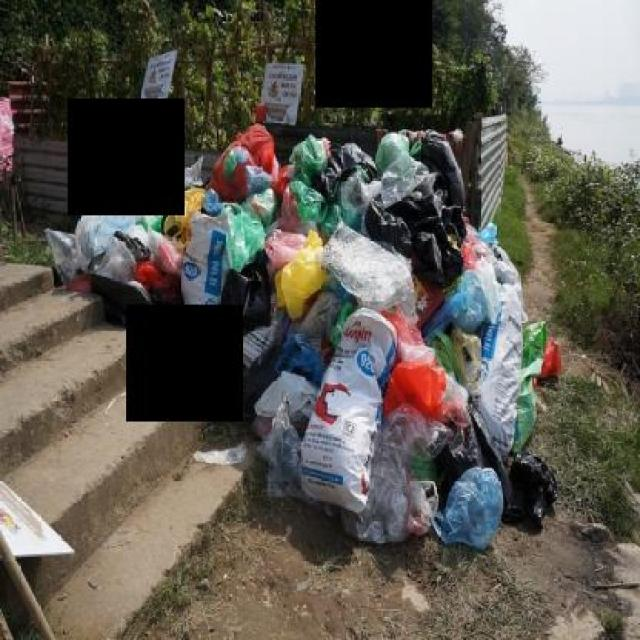plastic bag: (189, 121, 557, 562), (48, 166, 242, 339), (257, 382, 311, 503), (437, 464, 503, 548), (514, 308, 543, 442), (220, 198, 271, 271)
